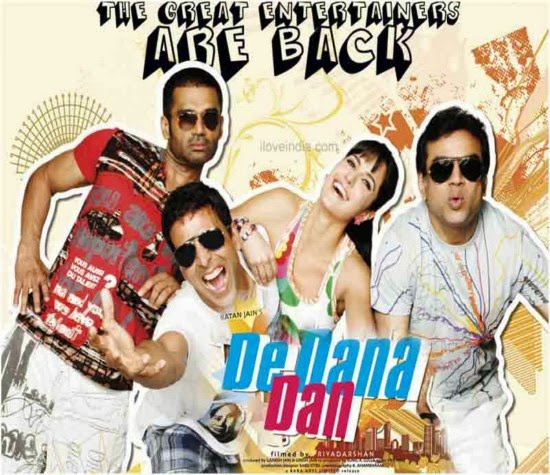bad: (419, 146, 494, 221), (171, 229, 245, 304), (170, 101, 232, 163)
